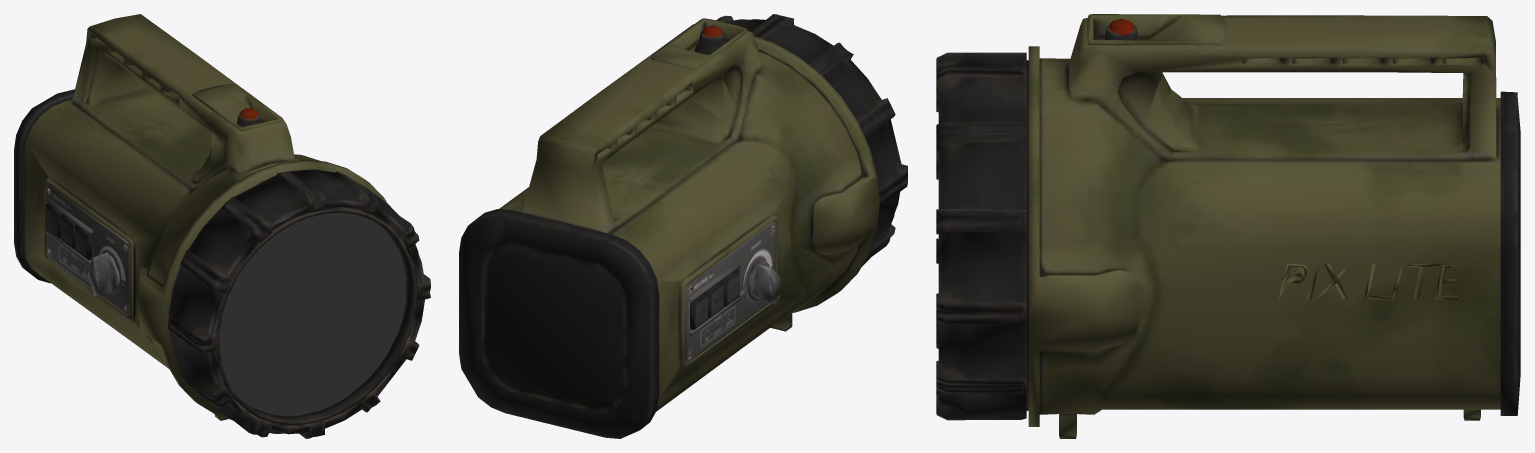
File: portable_searchlight.glb
The picture shows the model from 3 angles, left to right: view 1: azimuth 30°, elevation 25°; view 2: azimuth 150°, elevation 25°; view 3: azimuth 270°, elevation 25°; orthographic projection. The views are drawn at different scales.
Parts seen in each view (by area): view 1: portable_searchlight; view 2: portable_searchlight; view 3: portable_searchlight.
Part boxes in pixels (x1,y1,x2,y2): portable_searchlight: (14,14,430,438); portable_searchlight: (459,14,907,438); portable_searchlight: (936,14,1520,438).
Bounding box in the file's own units: 0.1653 × 0.1853 × 0.2534.
2 materials, 2 textured.
